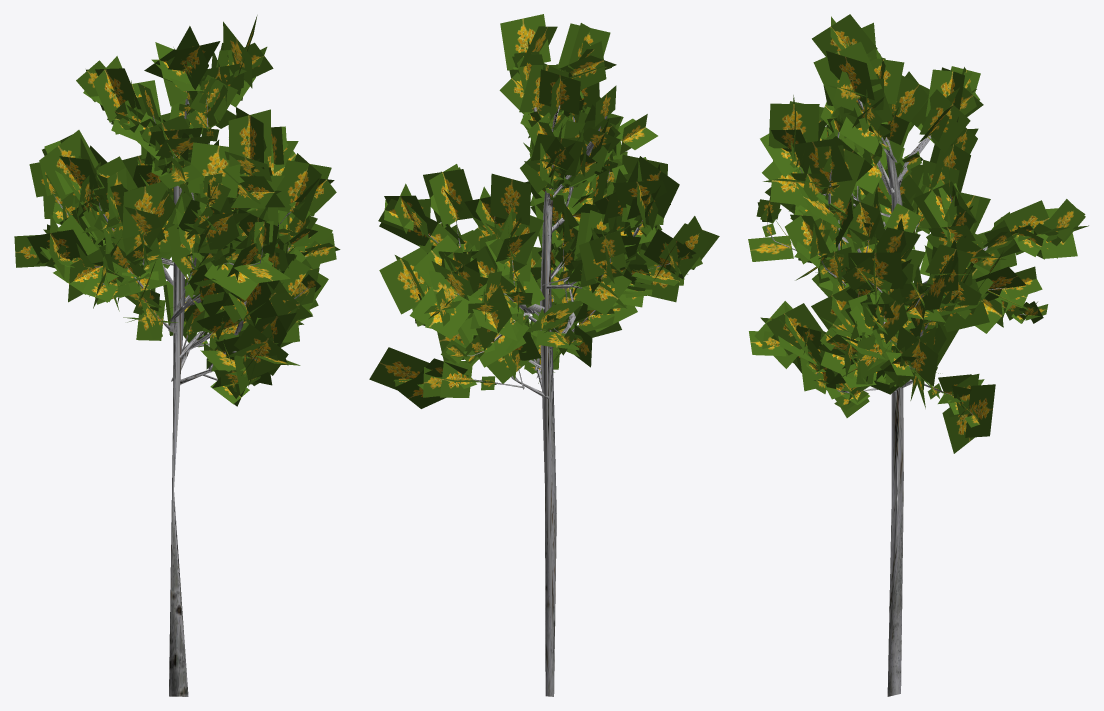
The picture shows the model from 3 angles, left to right: view 1: azimuth 30°, elevation 25°; view 2: azimuth 150°, elevation 25°; view 3: azimuth 270°, elevation 25°; orthographic projection. The views are drawn at different scales.
Visible parts, largest first — view 1: branches, branches.001; view 2: branches, branches.001; view 3: branches, branches.001.
Part boxes in pixels (box(x1,y1,x2,y2)): branches: box(14, 15, 340, 406); branches.001: box(53, 91, 307, 696); branches: box(369, 14, 719, 408); branches.001: box(428, 105, 669, 696); branches: box(748, 14, 1088, 453); branches.001: box(766, 95, 1026, 696).
Bounding box in the file's own units: 9.88 × 20.14 × 9.25.
2 materials, 2 textured.
